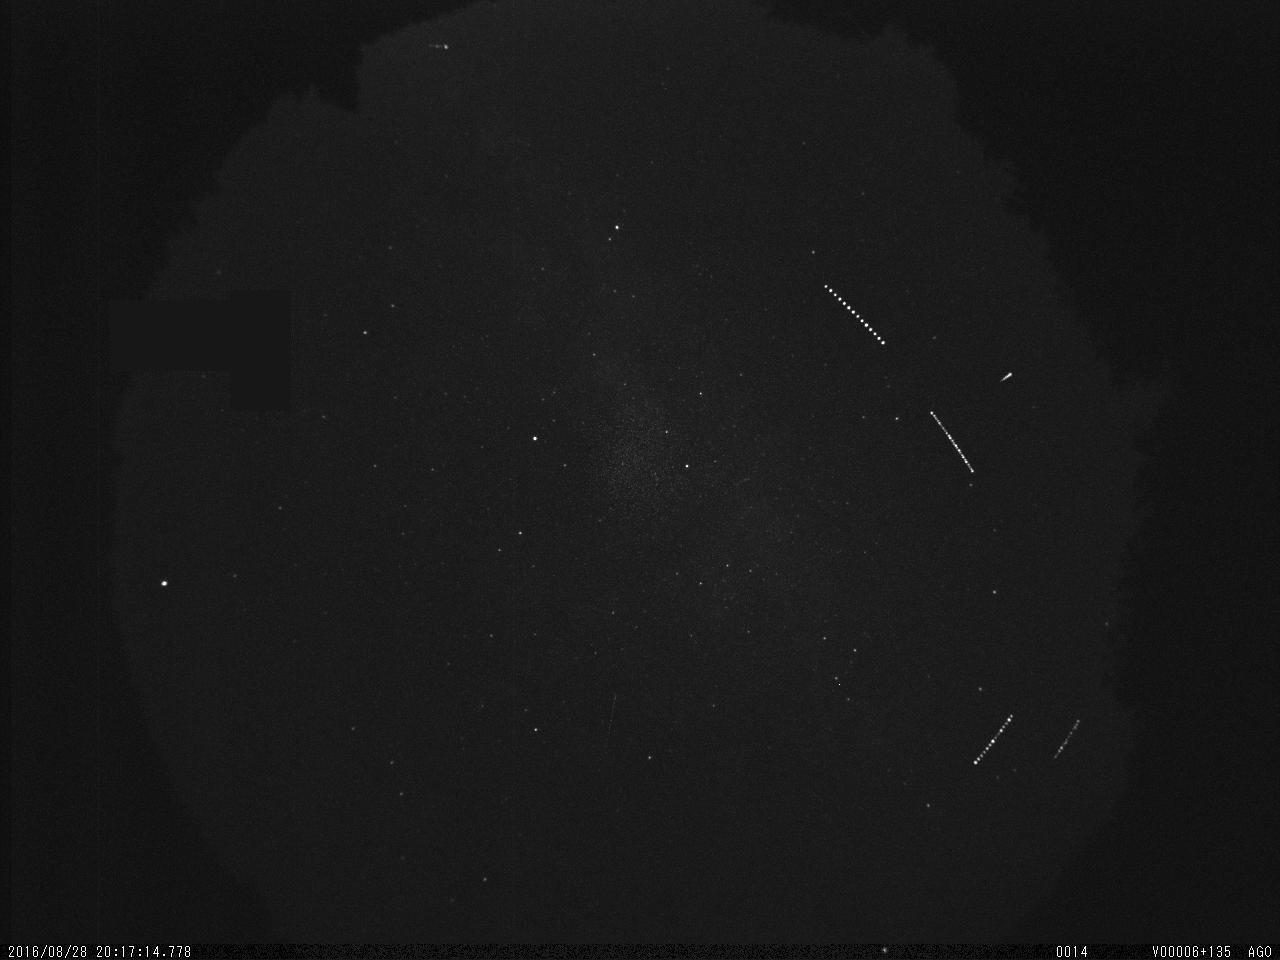meteor: (998, 366, 1017, 386)
satelite: (814, 274, 896, 354), (923, 405, 988, 484), (965, 704, 1019, 772), (1048, 713, 1087, 764)
